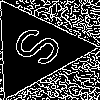S: (9, 24, 74, 75)
